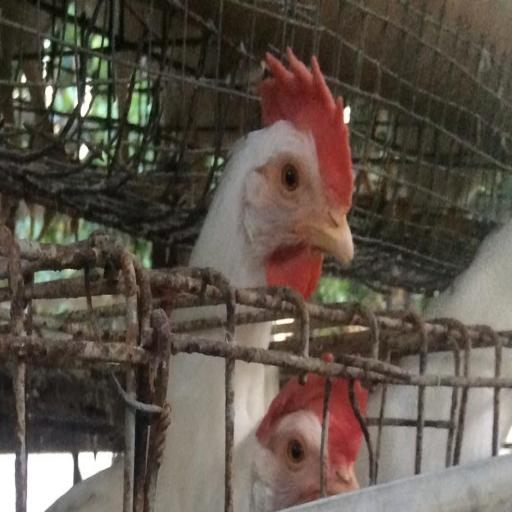healthy: (247, 52, 364, 303)
